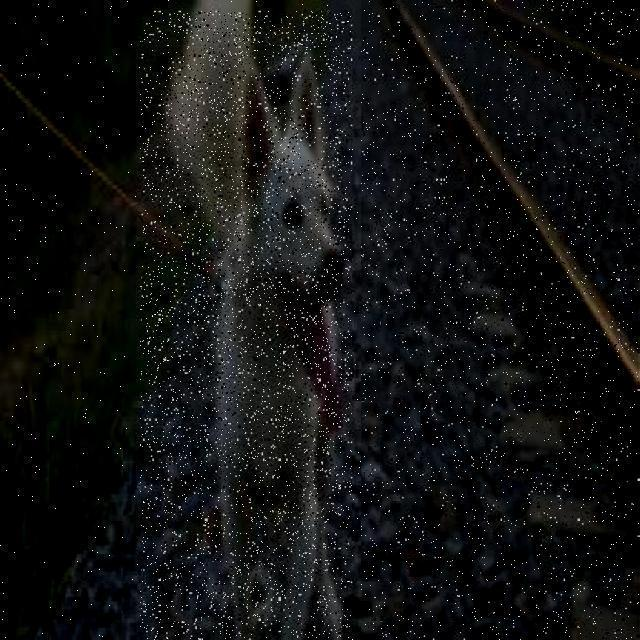rail: (362, 1, 640, 640)
